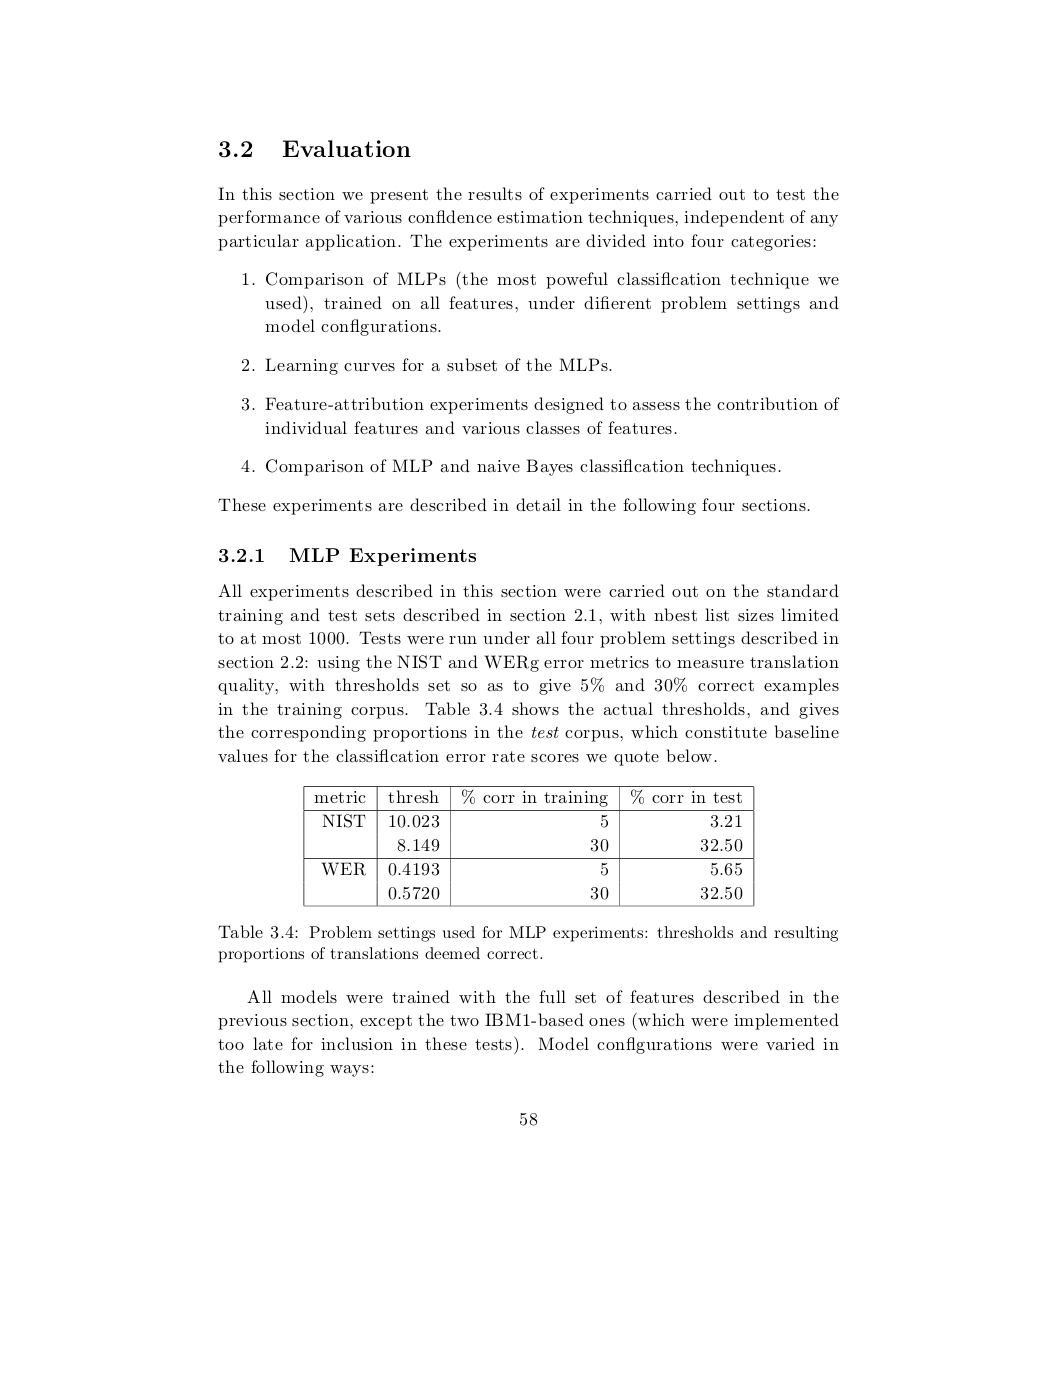Table: (303, 785, 755, 907)
